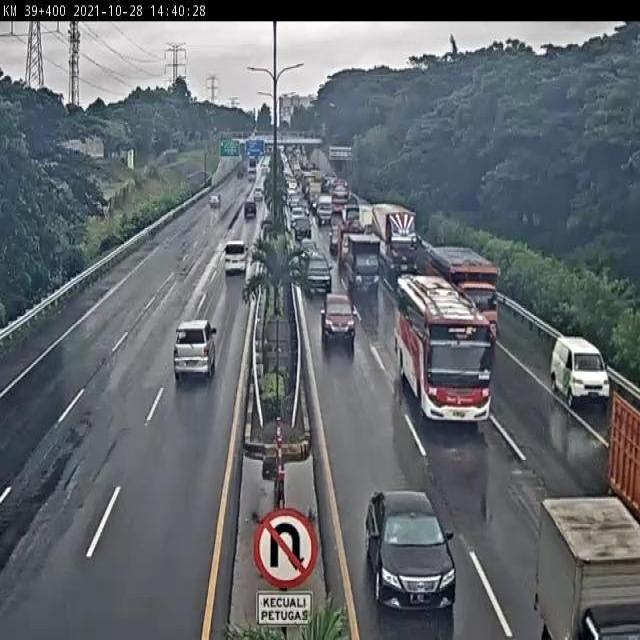bus-l-: (397, 273, 489, 420)
car: (365, 488, 456, 607), (551, 335, 613, 401), (170, 320, 215, 379), (320, 291, 357, 340), (306, 254, 332, 294), (222, 239, 248, 277)
truck-l-: (421, 244, 499, 355)
truck-m-: (344, 233, 380, 287)
